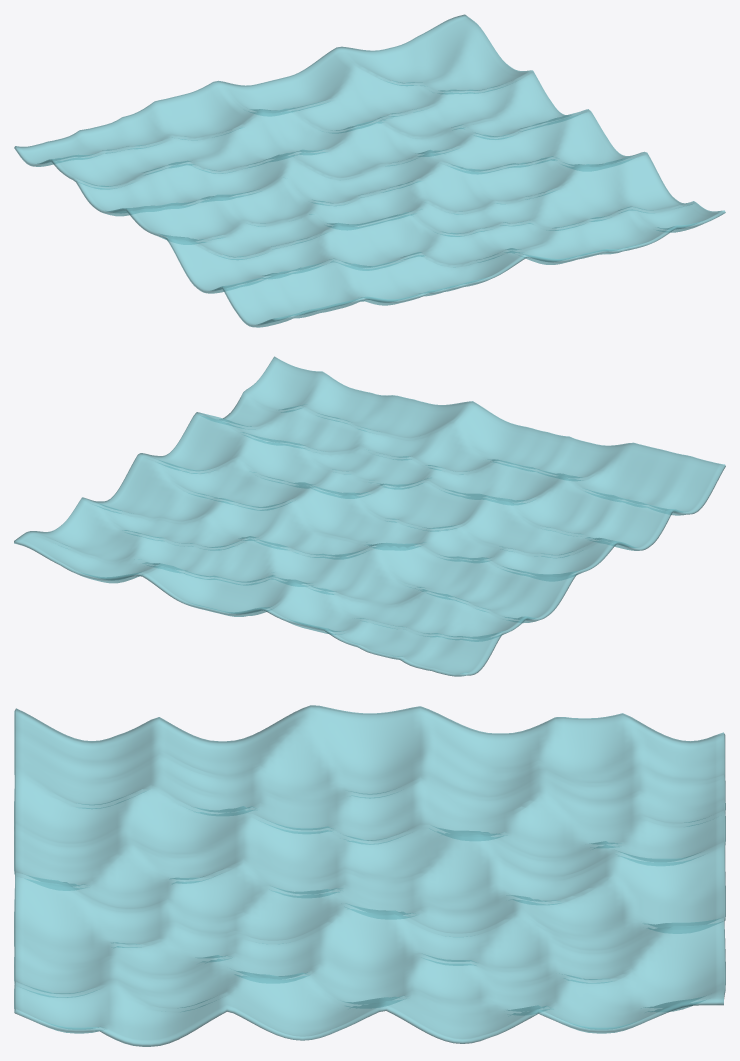
The model's file is HiddenWater_Water_Greybox.fbx.
3 renders of one model, top to bottom at view 1: azimuth 30°, elevation 25°; view 2: azimuth 150°, elevation 25°; view 3: azimuth 270°, elevation 25°, orthographic. The views are drawn at different scales.
Parts seen in each view (by area): view 1: Plane; view 2: Plane; view 3: Plane.
Part boxes in pixels (left/top/right/bottom): Plane: left=14, top=14, right=725, bottom=327; Plane: left=14, top=356, right=725, bottom=676; Plane: left=14, top=705, right=725, bottom=1046.
Size of the model in its own units: 2012 by 141 by 2012.
